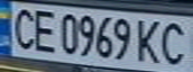0: (54, 10, 81, 56)
6: (93, 13, 115, 60)
9: (112, 15, 136, 62), (75, 11, 96, 57)
C: (157, 19, 193, 67), (6, 4, 39, 52)
E: (27, 7, 60, 54)
K: (133, 17, 166, 64)
